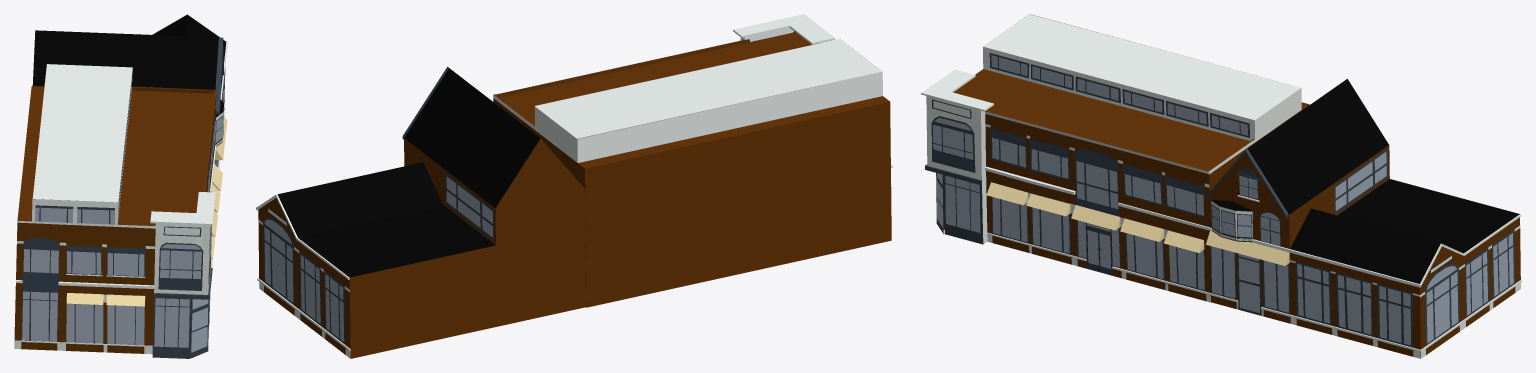
The model's file is CommunityWellnessHub.glb.
The picture shows the model from 3 angles, left to right: view 1: azimuth 30°, elevation 25°; view 2: azimuth 150°, elevation 25°; view 3: azimuth 270°, elevation 25°; orthographic projection. The views are drawn at different scales.
Parts seen in each view (by area): view 1: Cube; view 2: Cube; view 3: Cube.
Part boxes in pixels (x1,y1,x2,y2): Cube: (14, 14, 227, 358); Cube: (256, 14, 892, 358); Cube: (921, 14, 1521, 358).
Bounding box in the file's own units: 6.57 × 2.63 × 8.42.
